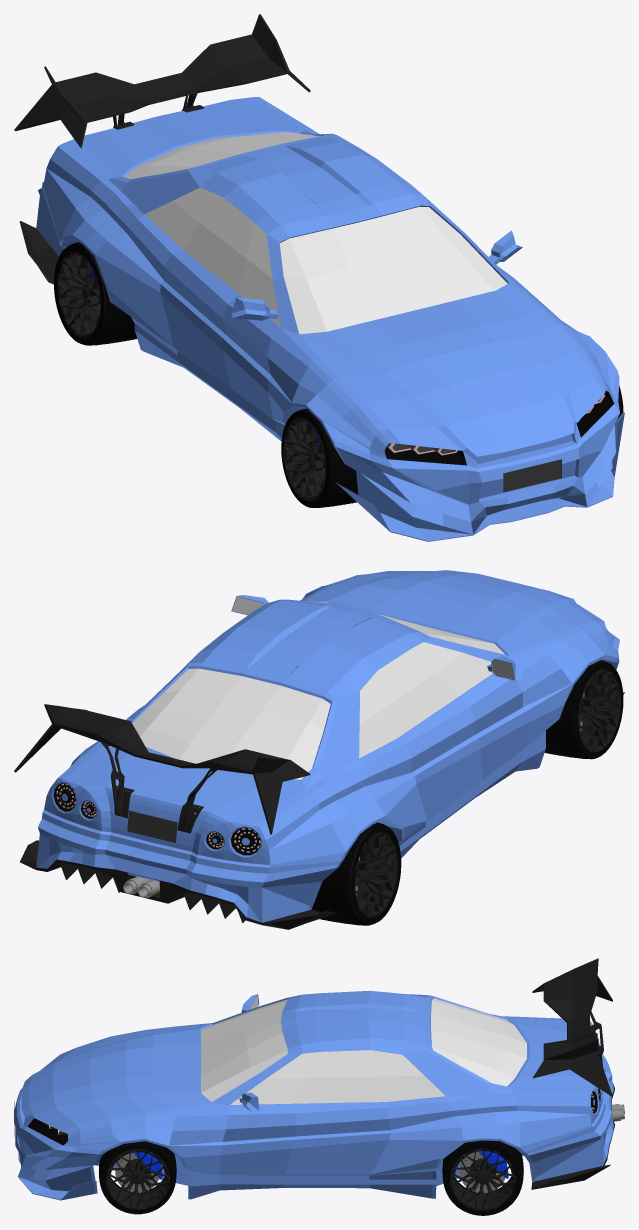
The model's file is Nissan_Skyline_E34_Concept.fbx.
The picture shows the model from 3 angles, top to bottom: view 1: azimuth 30°, elevation 25°; view 2: azimuth 150°, elevation 25°; view 3: azimuth 270°, elevation 25°; orthographic projection. The views are drawn at different scales.
Visible parts, largest first — view 1: Cube.002, Cube.003, wheels3.003, wheels3.004, Cube.001, Cube, Circle, Main.003, Main.001; view 2: Cube.002, Cube.003, Cube, wheels3.003, wheels3.004, Cube.001, Main.001, Plane.001, Main.019, Circle, Main.002, кузов.001; view 3: Cube.002, Cube.003, wheels3.003, wheels3.004, Cube, Cube.001, wheels3.002, wheels3, Main.001, Circle.
Part boxes in pixels (x1,y1,x2,y2): Cube.002: (36, 97, 624, 541); Cube.003: (14, 14, 310, 147); wheels3.003: (57, 250, 105, 337); wheels3.004: (283, 418, 356, 500); Cube.001: (281, 385, 623, 507); Cube: (54, 242, 137, 345); Circle: (231, 230, 522, 320); Main.003: (503, 459, 561, 492); Main.001: (19, 221, 58, 284); Cube.002: (36, 570, 624, 922); Cube.003: (14, 704, 310, 834); Cube: (311, 822, 401, 925); wheels3.003: (349, 830, 397, 917); wheels3.004: (575, 669, 620, 752); Cube.001: (544, 660, 623, 759); Main.001: (20, 840, 336, 929); Plane.001: (60, 863, 245, 922); Main.019: (127, 810, 177, 842); Circle: (231, 595, 522, 680); Main.002: (56, 783, 260, 852); кузов.001: (123, 876, 159, 897); Cube.002: (14, 990, 613, 1200); Cube.003: (532, 958, 612, 1096); wheels3.003: (450, 1143, 516, 1210); wheels3.004: (106, 1149, 170, 1209); Cube: (442, 1140, 523, 1215); Cube.001: (98, 1141, 176, 1214); wheels3.002: (459, 1151, 508, 1193); wheels3: (115, 1152, 162, 1192); Main.001: (531, 1083, 614, 1189); Circle: (239, 994, 259, 1111).
Size of the model in its own units: 226 by 153 by 512.
